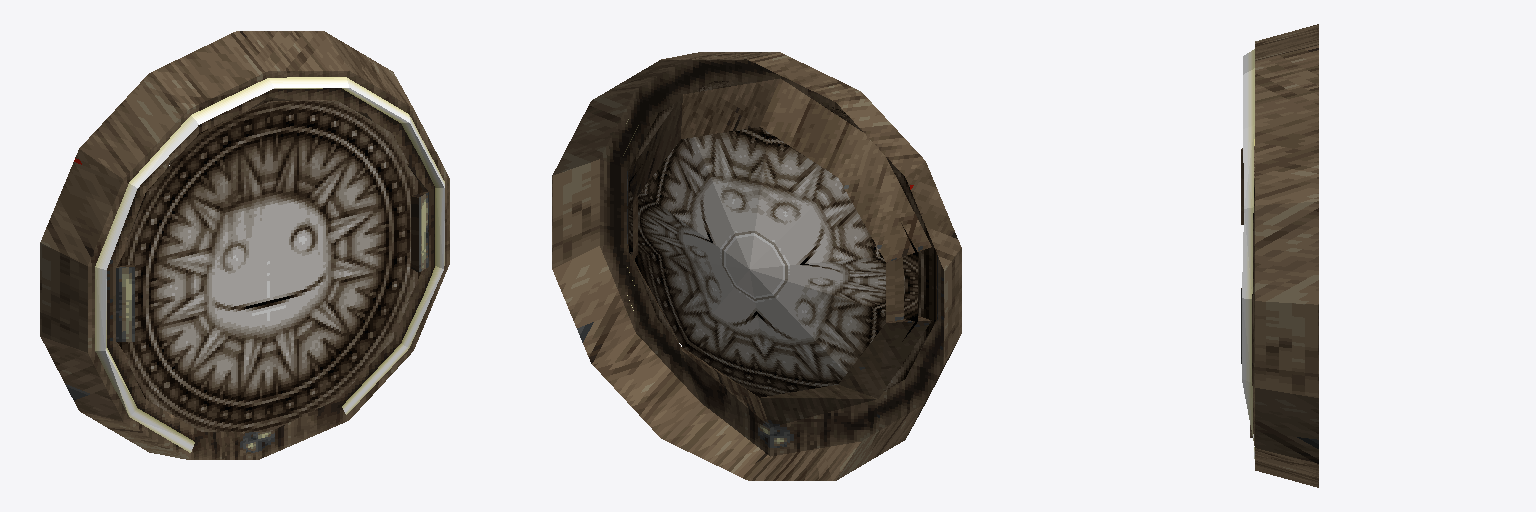
3 renders of one model, left to right at view 1: azimuth 30°, elevation 25°; view 2: azimuth 150°, elevation 25°; view 3: azimuth 270°, elevation 25°, orthographic.
Visible parts, largest first — view 1: model972, model652, model882; view 2: model652, model972; view 3: model652, model882.
Part boxes in pixels (x1,y1,x2,y2): model972: (117, 99, 423, 431); model652: (40, 31, 449, 459); model882: (95, 77, 444, 452); model652: (552, 52, 961, 480); model972: (628, 81, 936, 397); model652: (1241, 24, 1318, 487); model882: (1242, 49, 1254, 458).
Bounding box in the file's own units: 0.278 × 0.2851 × 0.0484.
3 materials, 3 textured.